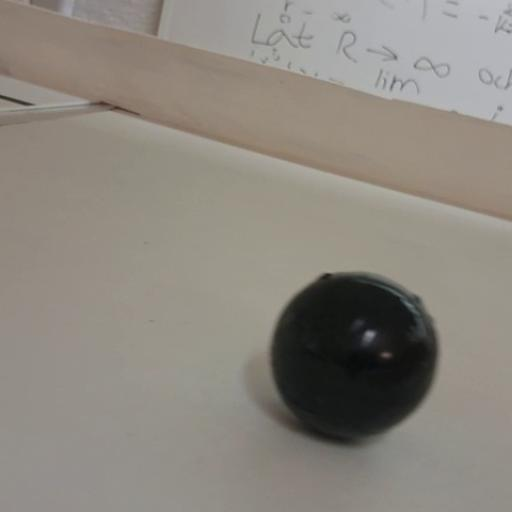dead: (266, 267, 442, 445)
